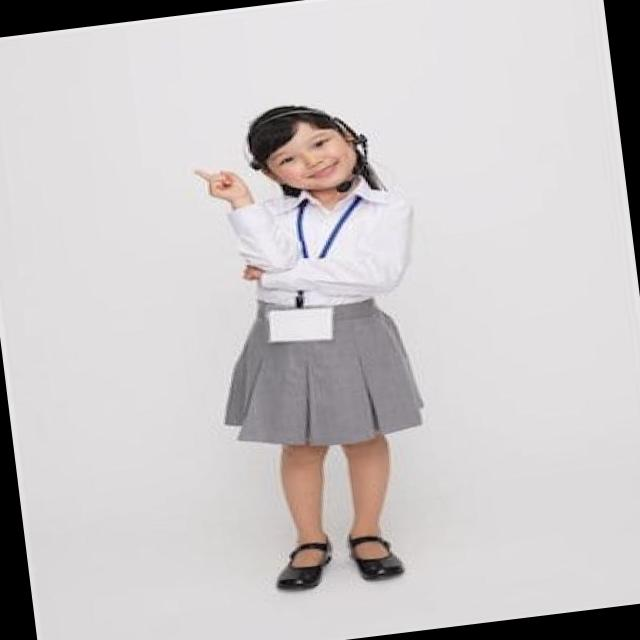id_card: (244, 180, 370, 347)
